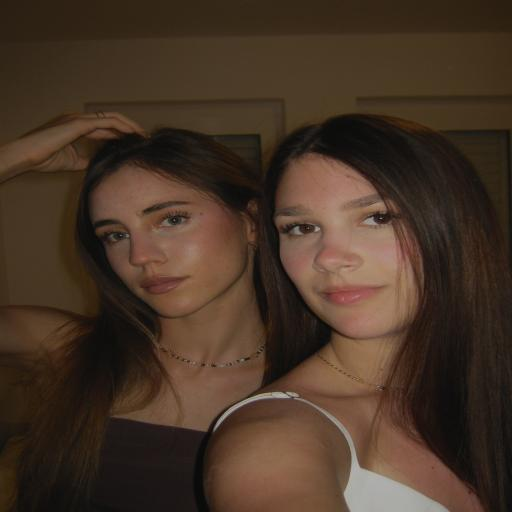masa: (82, 170, 259, 322)
